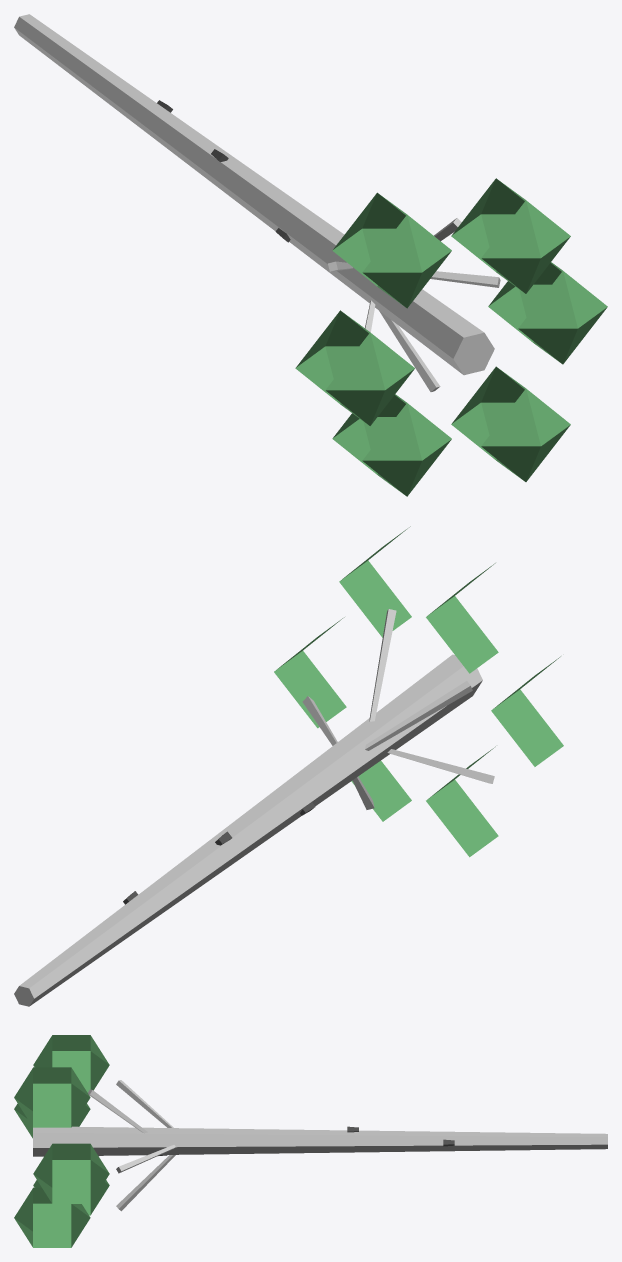
Rendered from birch_tree.glb.
3 views of the same model, one above another, from view 1: azimuth 30°, elevation 25°; view 2: azimuth 150°, elevation 25°; view 3: azimuth 270°, elevation 25° (orthographic). The views are drawn at different scales.
Visible parts, largest first — view 1: geometry_0; view 2: geometry_0; view 3: geometry_0.
Boxes of the visible parts, x1,y1,x2,y2 form: geometry_0: [14, 14, 607, 496]; geometry_0: [14, 526, 563, 1006]; geometry_0: [14, 1035, 607, 1247].
Bounding box in the file's own units: 1.15 × 1.04 × 3.1.
